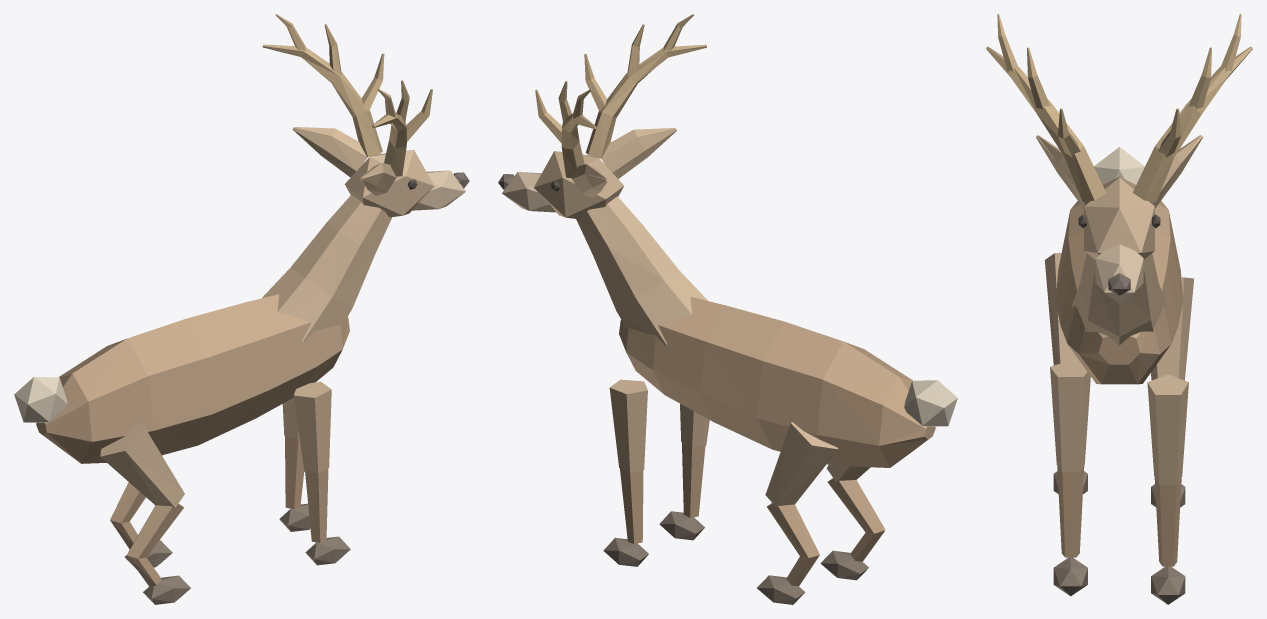
Rendered from deer.glb.
3 views of the same model, side by side, from view 1: azimuth 30°, elevation 25°; view 2: azimuth 150°, elevation 25°; view 3: azimuth 270°, elevation 25° (orthographic). The views are drawn at different scales.
Parts seen in each view (by area): view 1: Torso, Neck, near_HindThigh, near_ForeUpper, Head, Antler_far_Beam, Ear_far, Tail, near_HindShin, near_ForeLower, far_ForeLower, Muzzle (+6 smaller); view 2: Torso, Neck, far_HindThigh, far_ForeUpper, Head, Antler_near_Beam, Ear_near, Tail, near_HindShin, far_HindShin, far_ForeLower, near_ForeLower (+8 smaller); view 3: Torso, Neck, Head, near_ForeUpper, far_ForeUpper, Antler_near_Beam, Antler_far_Beam, near_ForeLower, far_ForeLower, Muzzle, far_HindThigh, near_HindThigh (+12 smaller).
Part boxes in pixels (<box>): Torso: <box>36,294,349,463</box>; Neck: <box>262,194,392,342</box>; near_HindThigh: <box>100,423,184,507</box>; near_ForeUpper: <box>293,381,331,473</box>; Head: <box>344,149,434,217</box>; Antler_far_Beam: <box>262,44,382,157</box>; Ear_far: <box>292,127,367,177</box>; Tail: <box>14,376,67,422</box>; near_HindShin: <box>127,502,183,586</box>; near_ForeLower: <box>305,469,328,542</box>; far_ForeLower: <box>285,436,304,509</box>; Muzzle: <box>412,170,465,210</box>; Torso: <box>619,297,935,467</box>; Neck: <box>576,196,707,345</box>; far_HindThigh: <box>765,422,838,507</box>; far_ForeUpper: <box>609,379,647,472</box>; Head: <box>533,151,623,219</box>; Antler_near_Beam: <box>586,44,706,158</box>; Ear_near: <box>601,128,676,178</box>; Tail: <box>904,380,957,426</box>; near_HindShin: <box>827,477,885,561</box>; far_HindShin: <box>767,503,819,586</box>; far_ForeLower: <box>620,468,643,544</box>; near_ForeLower: <box>682,442,705,517</box>; Torso: <box>1055,176,1183,384</box>; Neck: <box>1072,253,1166,345</box>; Head: <box>1084,177,1154,259</box>; near_ForeUpper: <box>1050,360,1090,471</box>; far_ForeUpper: <box>1147,374,1188,484</box>; Antler_near_Beam: <box>986,46,1106,201</box>; Antler_far_Beam: <box>1132,46,1252,201</box>; near_ForeLower: <box>1057,466,1084,557</box>; far_ForeLower: <box>1154,478,1181,566</box>; Muzzle: <box>1095,244,1143,303</box>; far_HindThigh: <box>1151,277,1193,380</box>; near_HindThigh: <box>1044,253,1081,365</box>.
Size of the model in its own units: 2.59 by 2.73 by 1.12.
